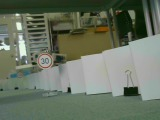speed_30: (35, 52, 54, 70)
